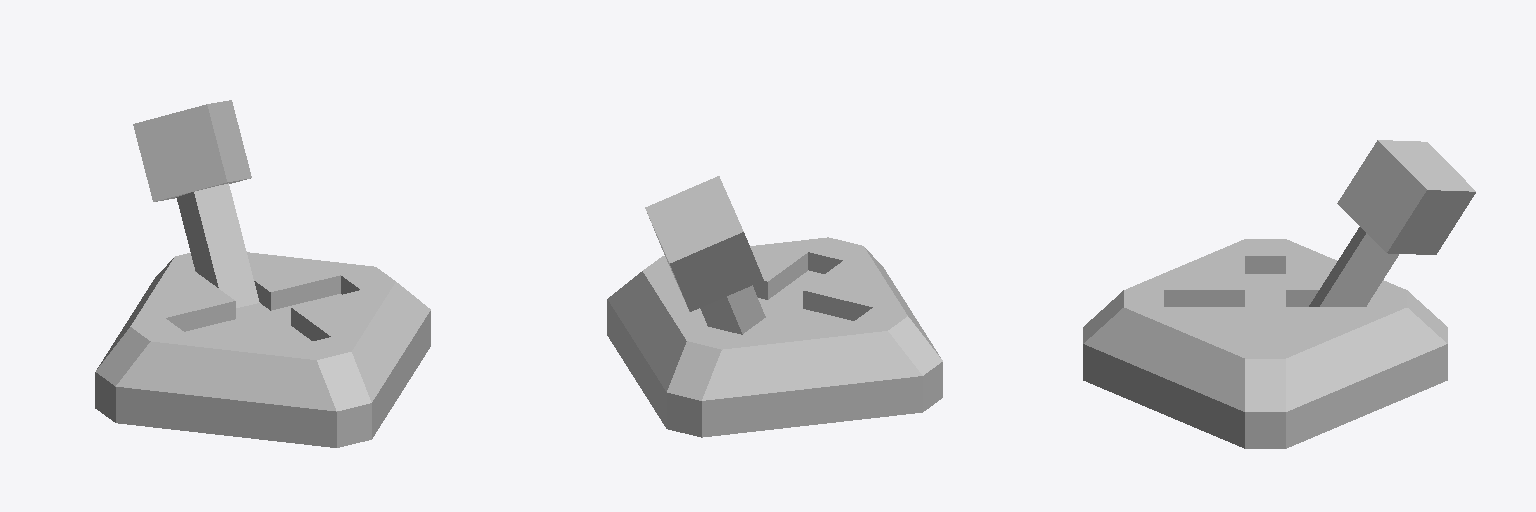
File: lever_5state_3.obj
The picture shows the model from 3 angles: view 1: azimuth 30°, elevation 25°; view 2: azimuth 150°, elevation 25°; view 3: azimuth 270°, elevation 25°; orthographic projection.
Visible parts, largest first — view 1: 5-STATE_Circle.004, LEVER_Cube.049; view 2: 5-STATE_Circle.004, LEVER_Cube.049; view 3: 5-STATE_Circle.004, LEVER_Cube.049.
Boxes of the visible parts, x1,y1,x2,y2 form: 5-STATE_Circle.004: [95, 252, 430, 447]; LEVER_Cube.049: [133, 100, 259, 307]; 5-STATE_Circle.004: [607, 237, 942, 437]; LEVER_Cube.049: [645, 176, 765, 334]; 5-STATE_Circle.004: [1083, 239, 1447, 448]; LEVER_Cube.049: [1309, 140, 1475, 306].
Bounding box in the file's own units: 0.5635 × 0.396 × 0.6083.